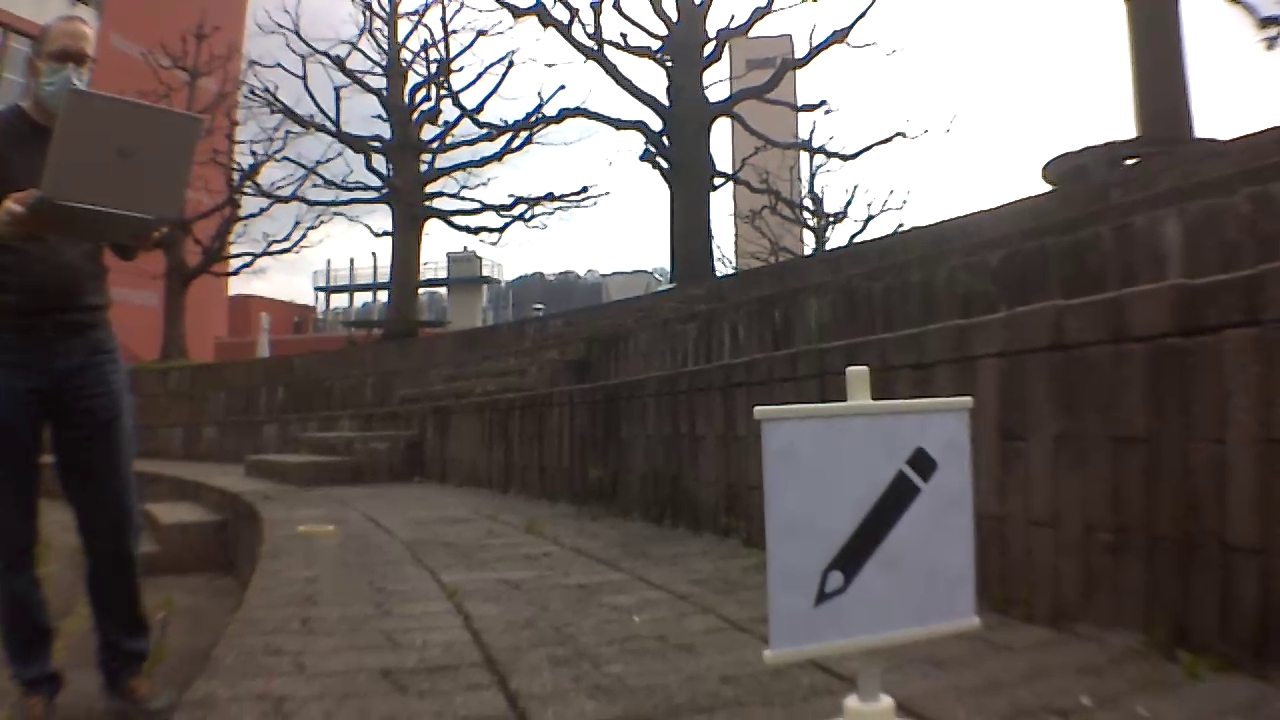pencil: (809, 443, 948, 612)
